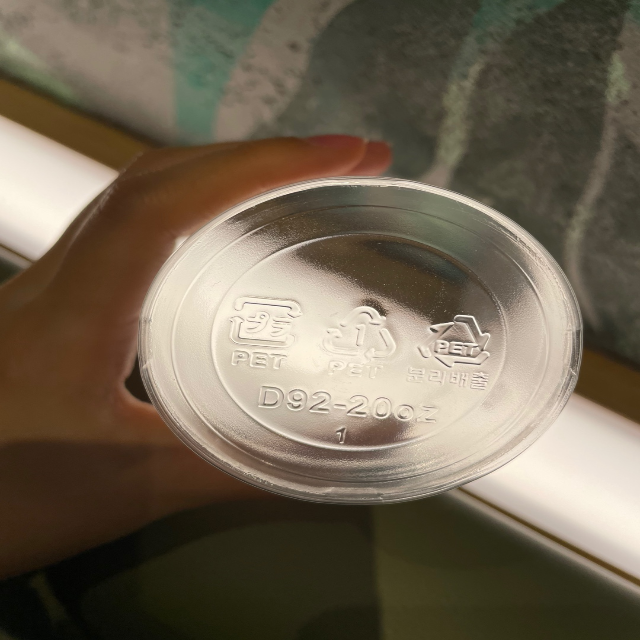pet: (407, 296, 499, 397), (219, 289, 305, 379), (320, 295, 404, 387)
